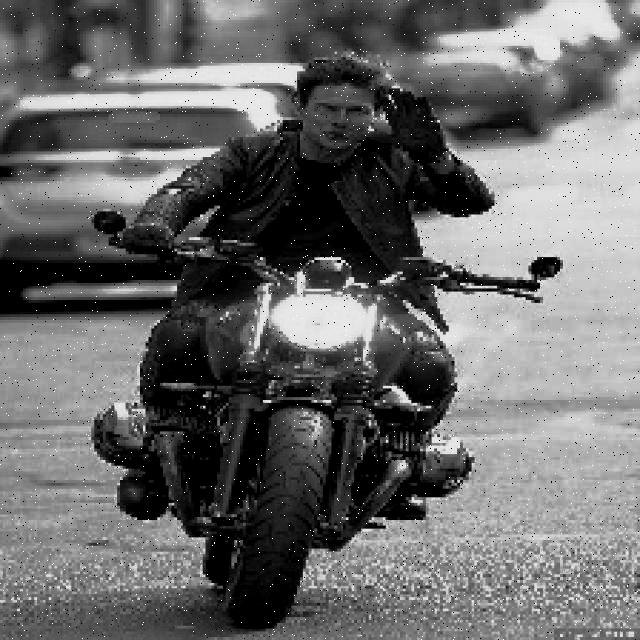Bike: (135, 236, 473, 638)
